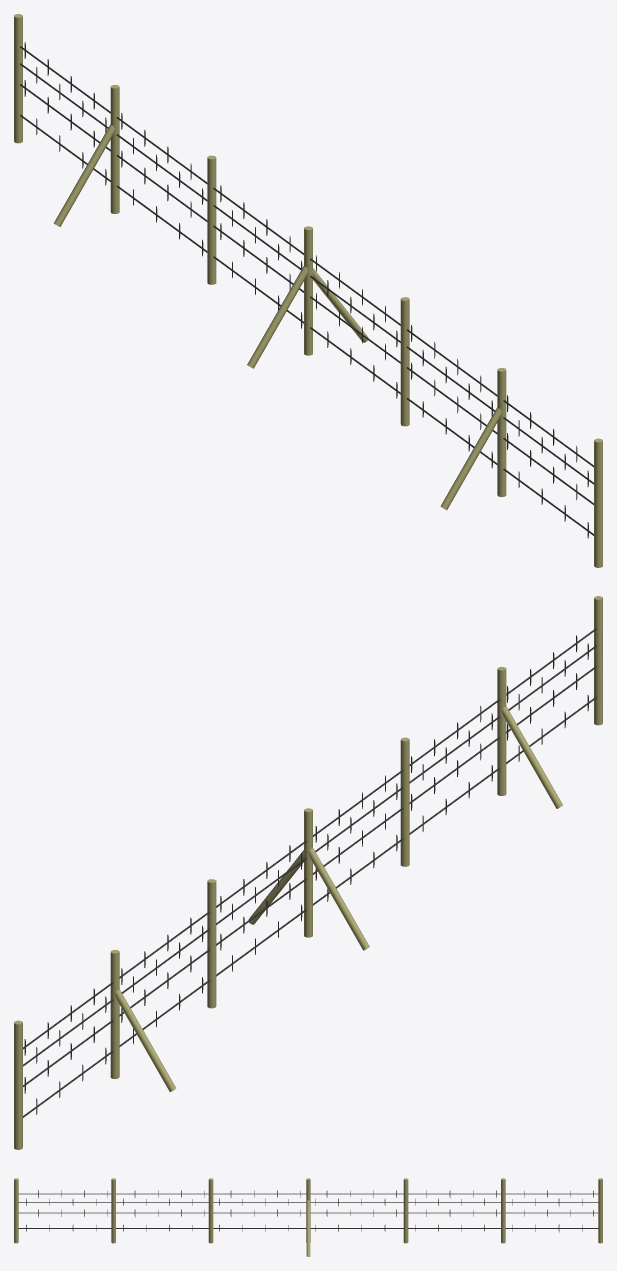
The model's file is stand wire.fbx.
3 renders of one model, top to bottom at view 1: azimuth 30°, elevation 25°; view 2: azimuth 150°, elevation 25°; view 3: azimuth 270°, elevation 25°, orthographic. The views are drawn at different scales.
Visible parts, largest first — view 1: pCube15; view 2: pCube15; view 3: pCube15.
Boxes of the visible parts, x1,y1,x2,y2 form: pCube15: (14, 14, 602, 567); pCube15: (14, 596, 602, 1149); pCube15: (14, 1178, 602, 1256).
Bounding box in the file's own units: 30.24 × 30.55 × 254.
